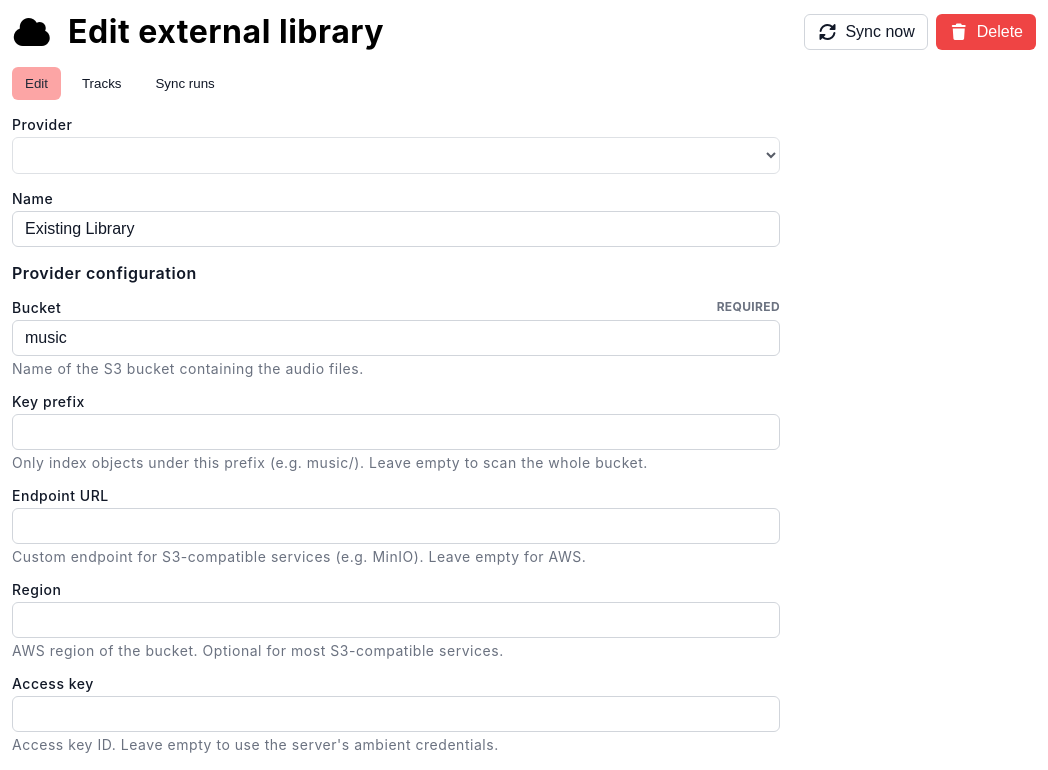
Test: ExternalLibraryEditView › renders sync runs as cards on narrow viewports
This screenshot has width=1048, height=770.
Step 1. Click the tab "Sync runs" → (185, 84), box [142,67,228,100]
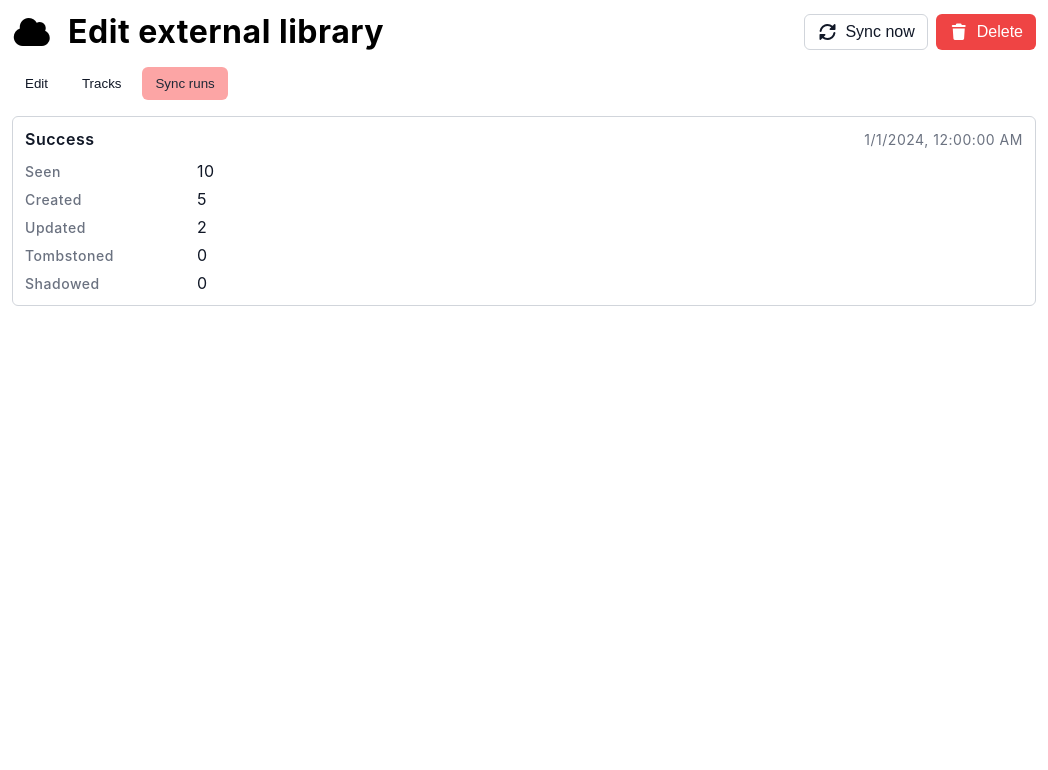
Expected: the list item with class "external-library-edit-view__sync-run-card" is shown, [12,116,1036,306]
Expected: the list item with class "external-library-edit-view__sync-run-card" shows "success", [25,129,95,149]
Expected: the list item with class "external-library-edit-view__sync-run-card" shows "10", [197,161,215,181]
